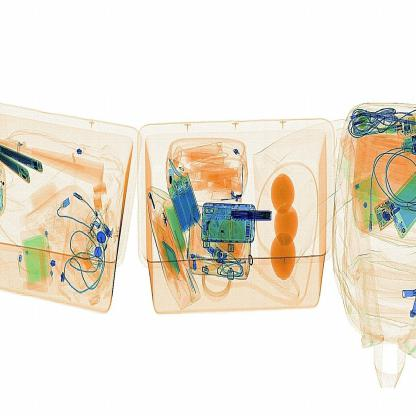scissors: (225, 205, 282, 235)
